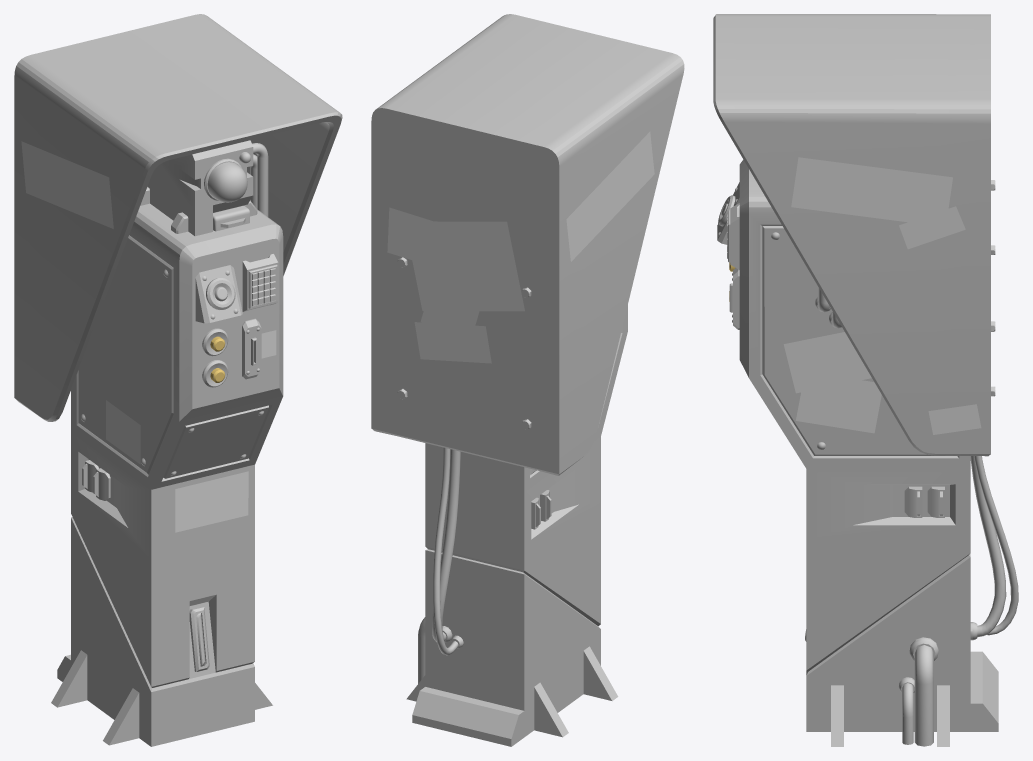
The model's file is KB3D_CPP_PropPayPhone_A.fbx.
The picture shows the model from 3 angles, left to right: view 1: azimuth 30°, elevation 25°; view 2: azimuth 150°, elevation 25°; view 3: azimuth 270°, elevation 25°; orthographic projection. The views are drawn at different scales.
Parts seen in each view (by area): view 1: KB3D_CPP_PropPayPhone_A_Main; view 2: KB3D_CPP_PropPayPhone_A_Main; view 3: KB3D_CPP_PropPayPhone_A_Main.
Boxes of the visible parts, left/top/right/bottom form: KB3D_CPP_PropPayPhone_A_Main: left=14, top=14, right=342, bottom=746; KB3D_CPP_PropPayPhone_A_Main: left=371, top=14, right=684, bottom=746; KB3D_CPP_PropPayPhone_A_Main: left=713, top=14, right=1018, bottom=746.
Size of the model in its own units: 60.34 by 185 by 78.93.
